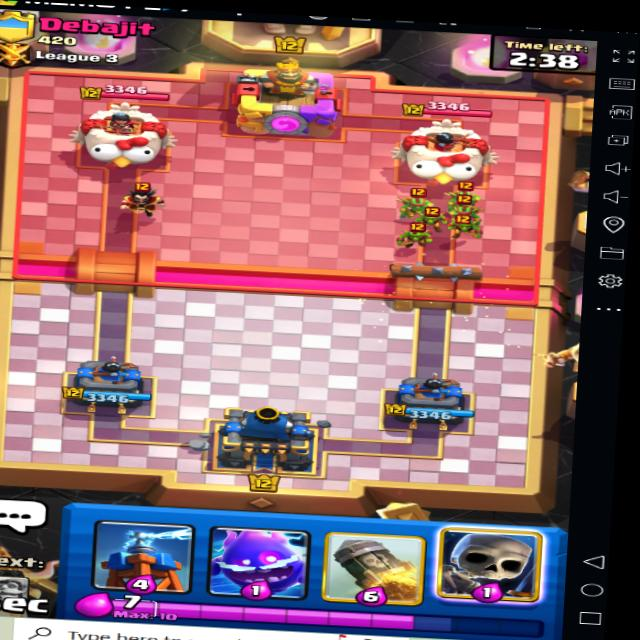electro-wizard: (112, 172, 162, 219)
goblin: (399, 219, 440, 255), (445, 214, 496, 238), (417, 202, 446, 231)
spear-goblin: (386, 183, 433, 223), (443, 178, 483, 204), (449, 198, 480, 223)
